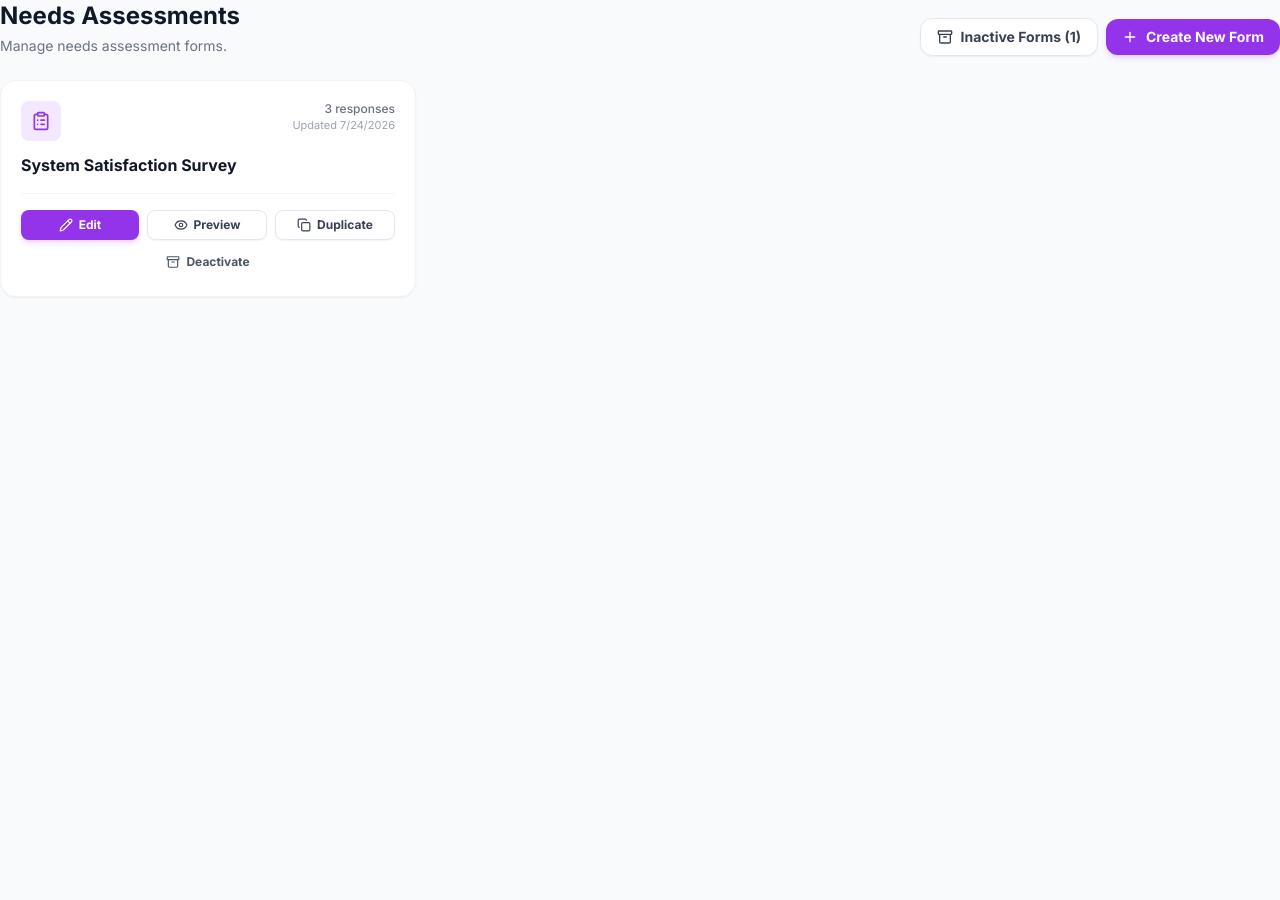
Test case: CareStaffFormsPage › warns before deleting a question that already has recorded answers
Click the button "Edit" at (80, 225), box x1=21 y1=210 x2=139 y2=240
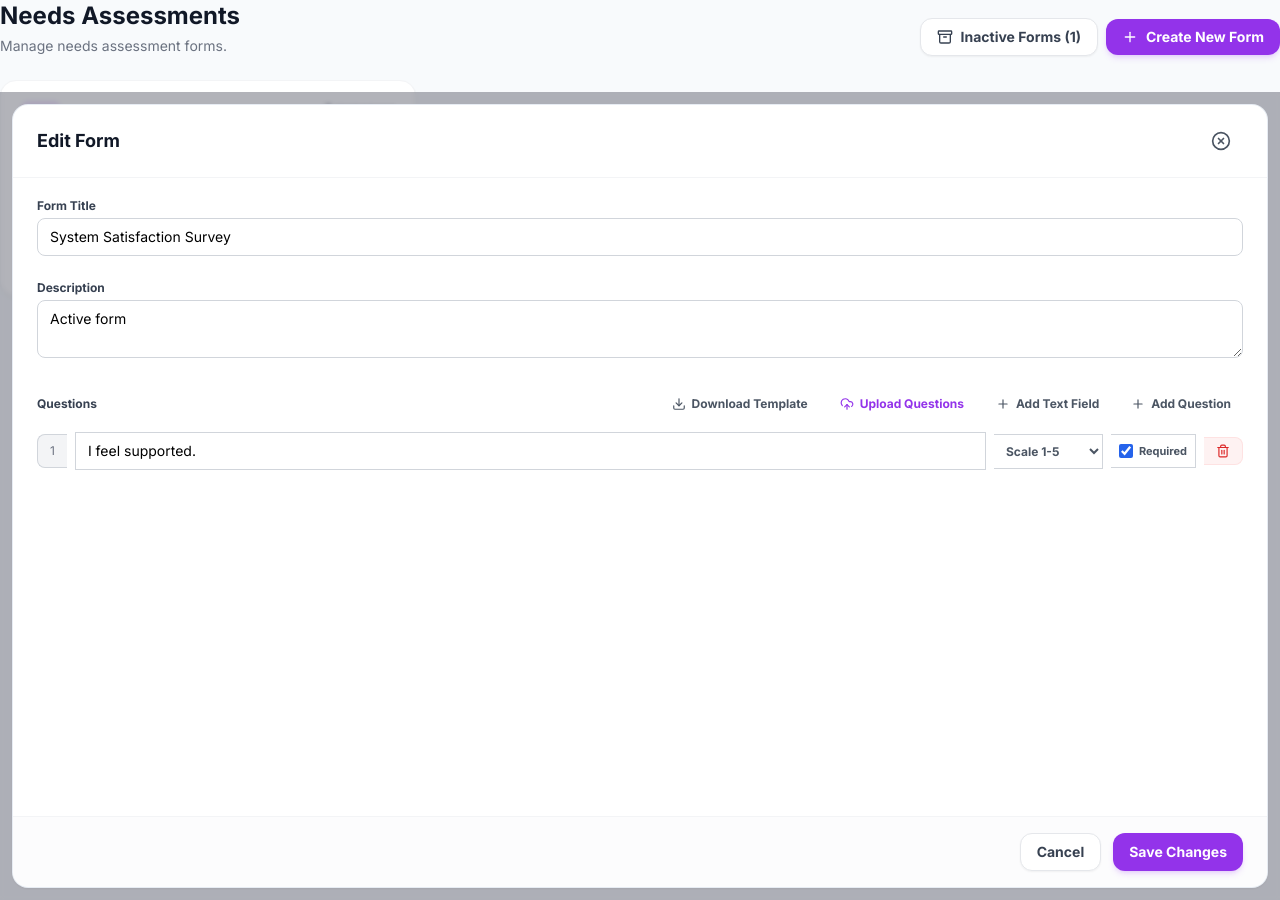
Click the button named "Remove question 1" at (1224, 451), box x1=1204 y1=437 x2=1243 y2=465
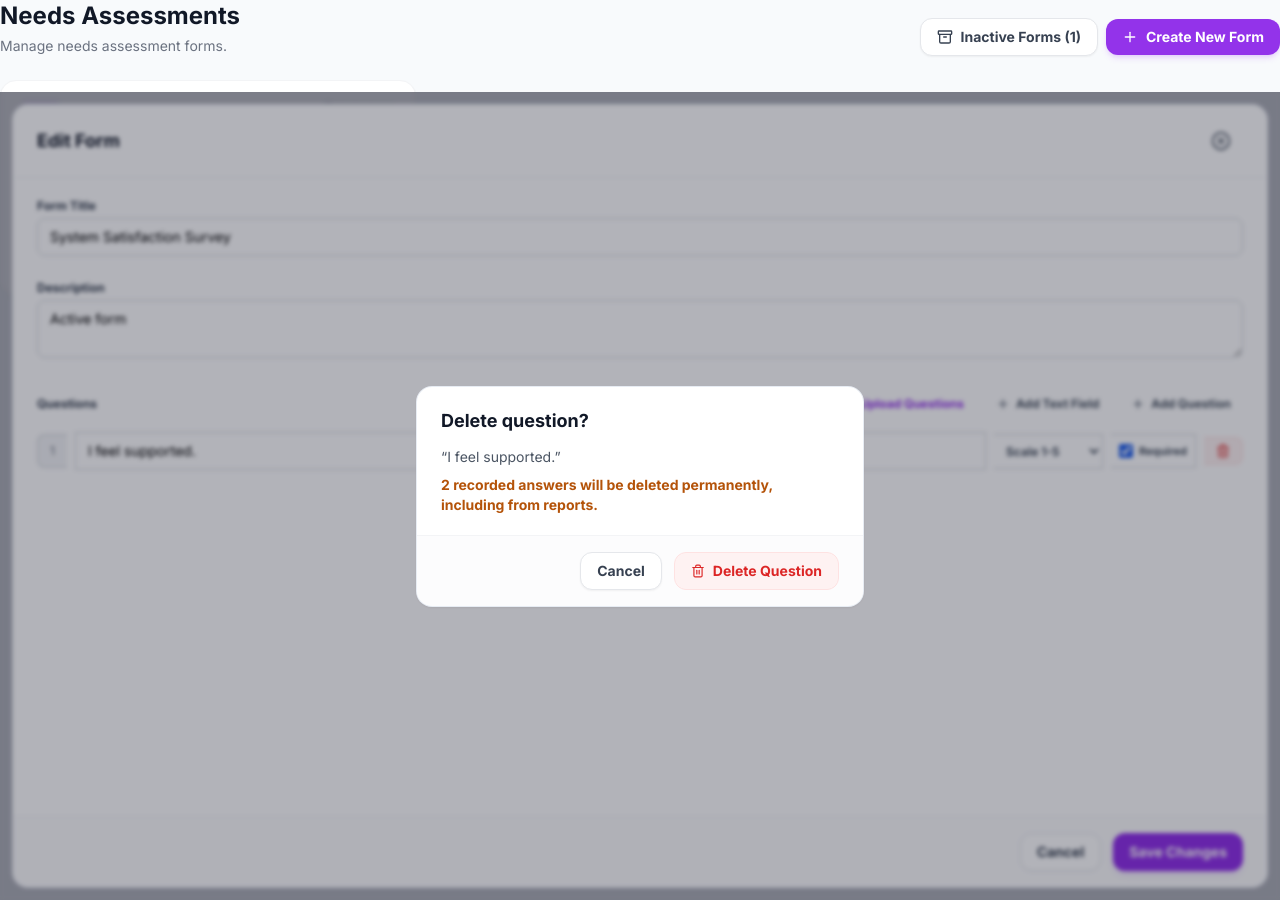
Result: the heading "Delete question?" is shown at x1=441 y1=410 x2=589 y2=430
Result: the text "2 recorded answers will be deleted permanently, including from reports." is shown at x1=441 y1=476 x2=773 y2=512
Click the button "Cancel" at (621, 570), box x1=580 y1=552 x2=662 y2=590
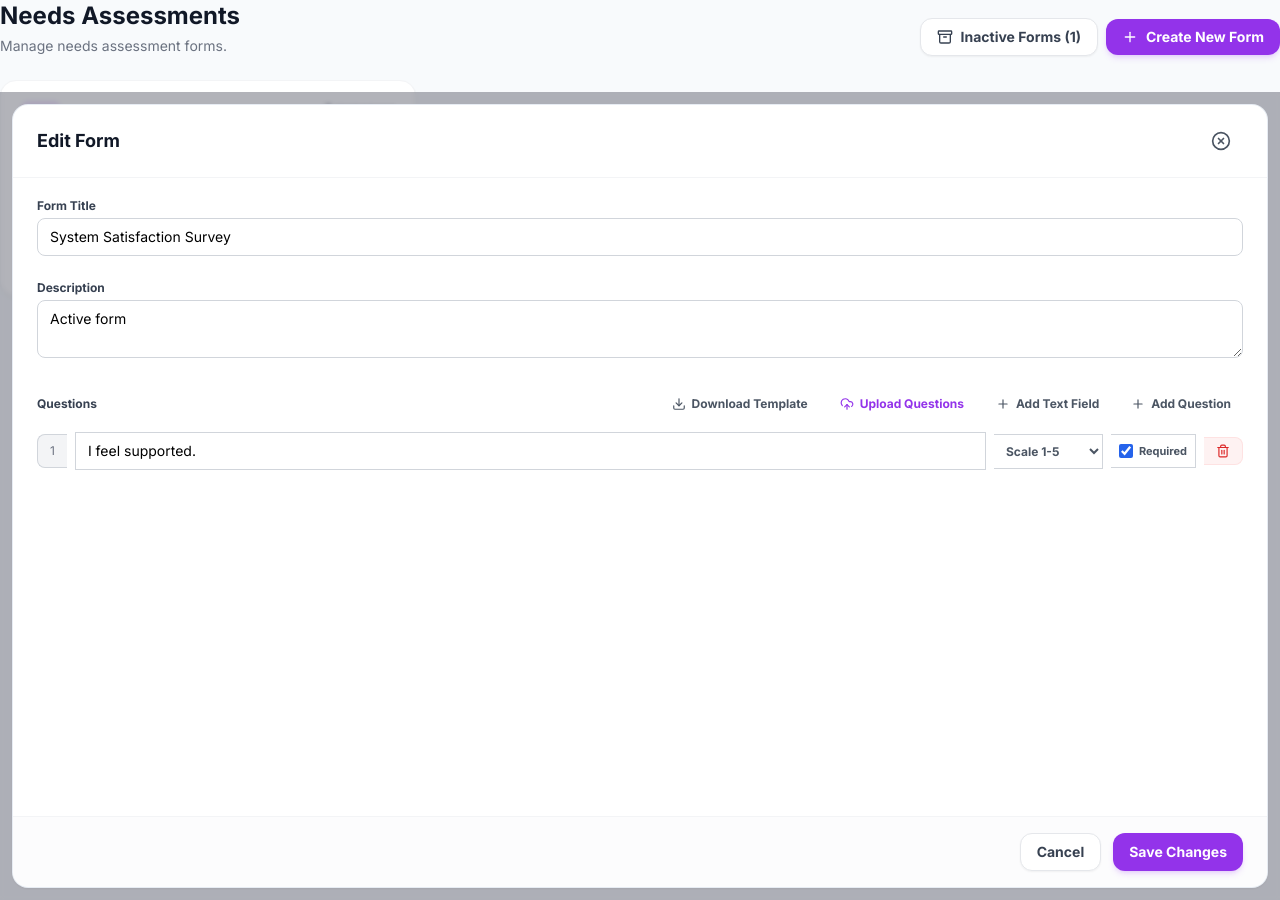
Result: the heading "Delete question?" is gone
